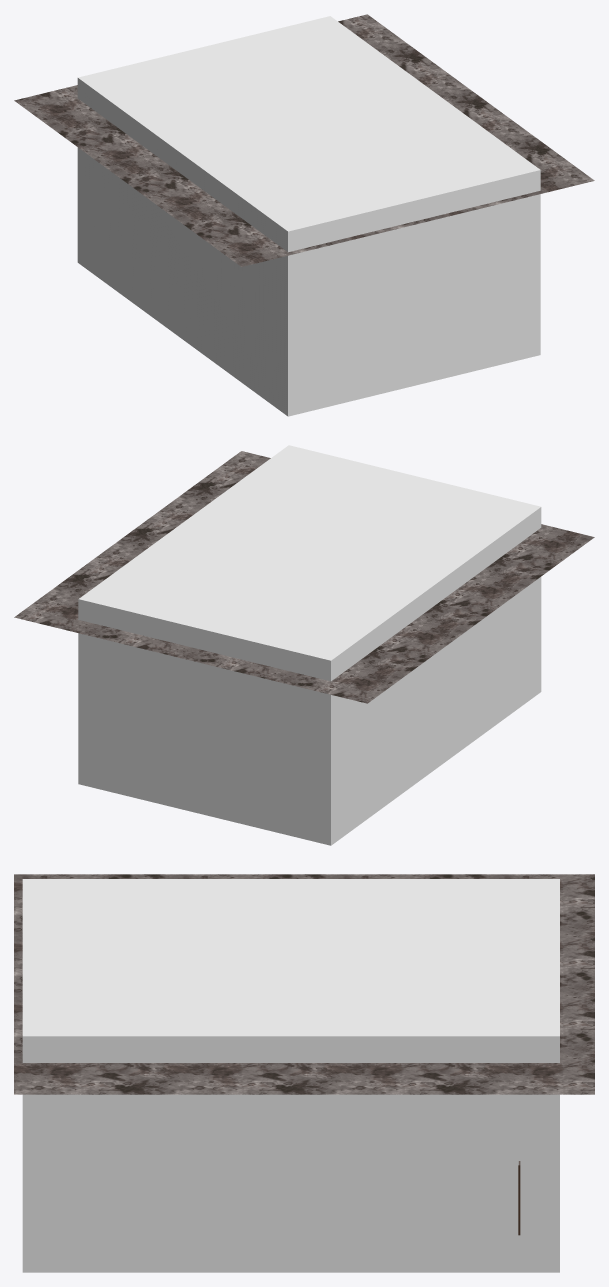
The model's file is SilentHill2BathroomTeste.glb.
The picture shows the model from 3 angles, top to bottom: view 1: azimuth 30°, elevation 25°; view 2: azimuth 150°, elevation 25°; view 3: azimuth 270°, elevation 25°; orthographic projection. The views are drawn at different scales.
Visible parts, largest first — view 1: Fog, Ceil; view 2: Fog, Ceil; view 3: Fog, Ceil.
Boxes of the visible parts, x1,y1,x2,y2 form: Fog: [77, 16, 540, 416]; Ceil: [14, 14, 594, 266]; Fog: [78, 445, 541, 845]; Ceil: [14, 451, 594, 703]; Fog: [22, 879, 559, 1272]; Ceil: [14, 874, 594, 1094].
Bounding box in the file's own units: 29.49 × 14.75 × 32.87.
Materials: 29 (24 with a texture image).
